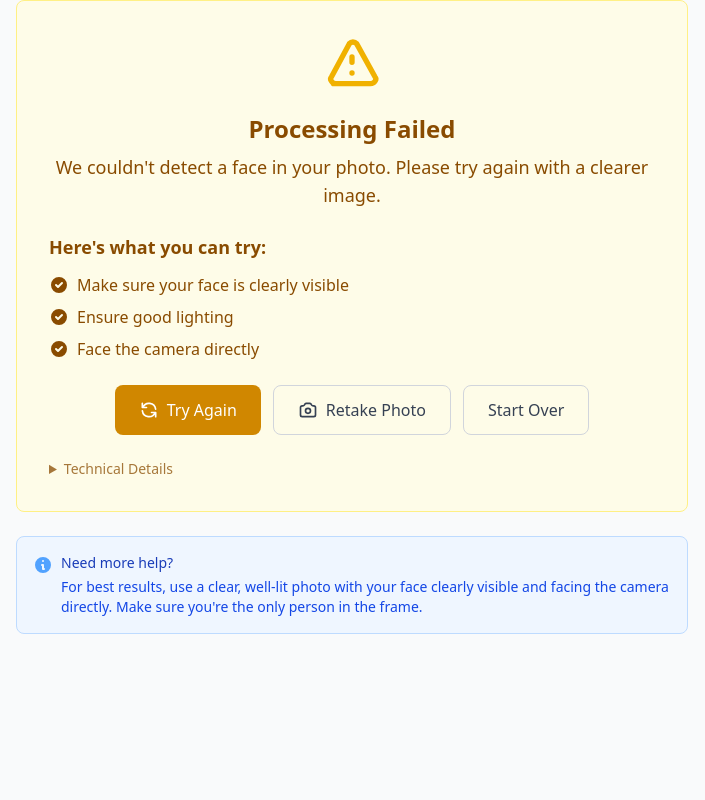
Test: ProcessingError Component › should show retry exhausted message when applicable
Click the heading "Technical Details".
click(118, 468)  # box [64,459,173,478]
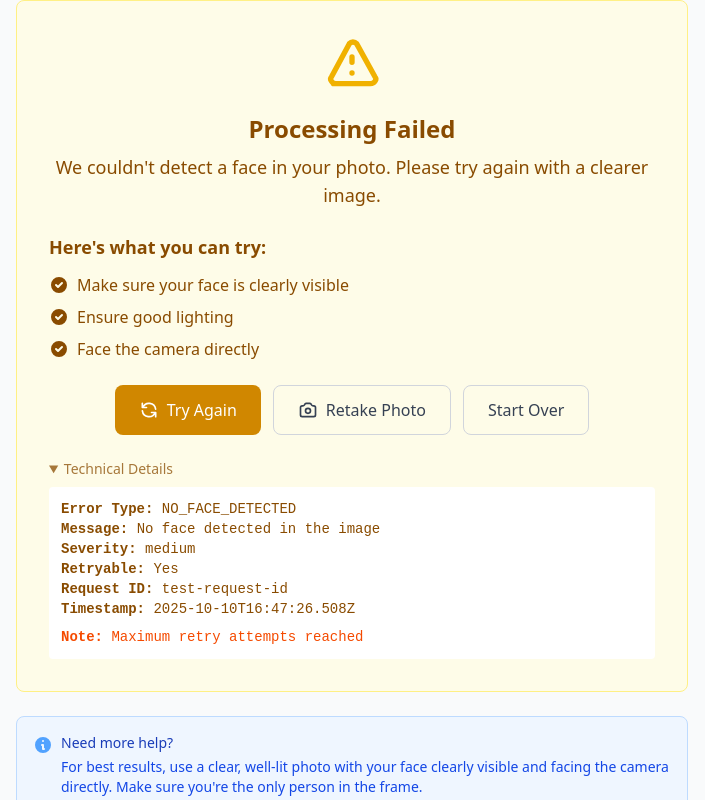
Check: the text "Maximum retry attempts reached" is shown, box [103,629,364,645]
